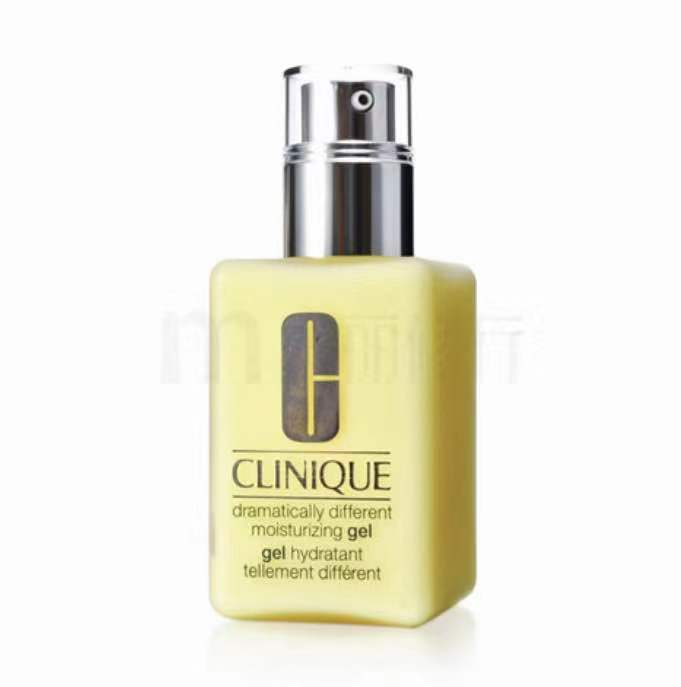cosmetic: (209, 58, 477, 623)
